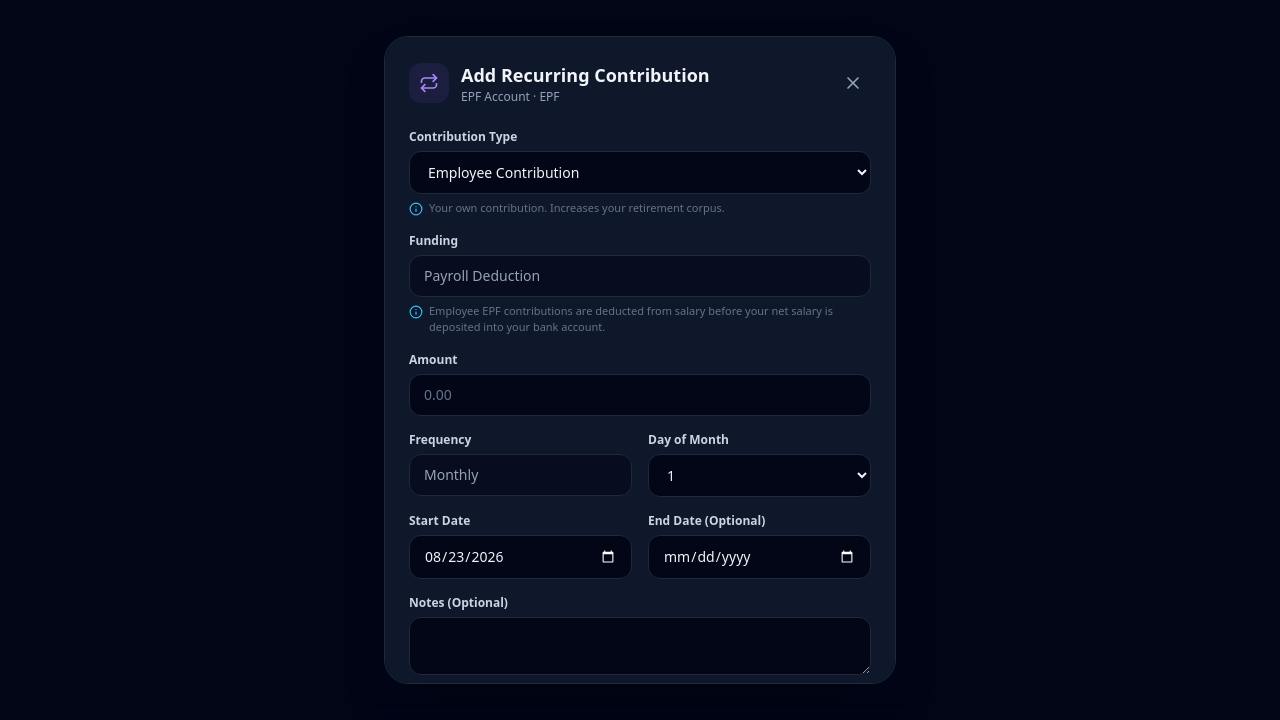
RecurringContributionFormModal — product policy › shows the month-end helper text only once day-of-month is above 28
Expected: the text "shorter months" is not shown
Select "31" in the dropdown labelled "Day of Month" at (760, 475), box [648,454,871,496]
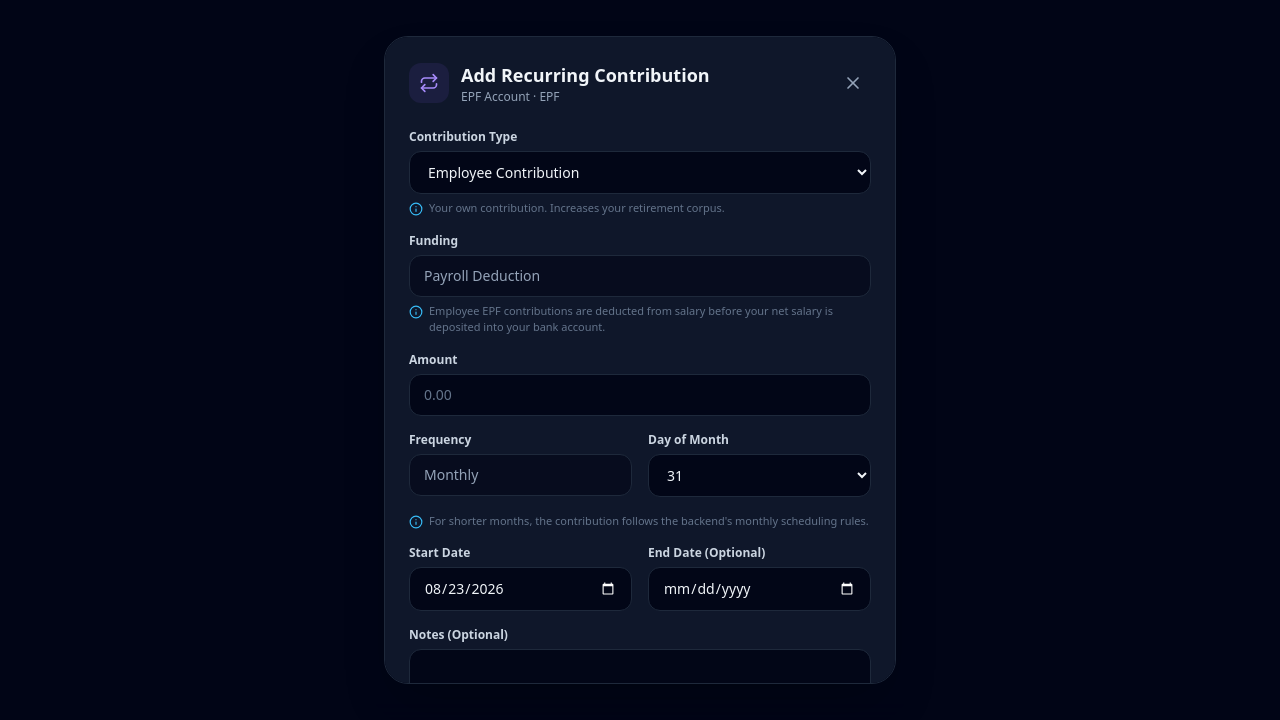
Expected: the text "shorter months" is shown, [429,512,869,528]
